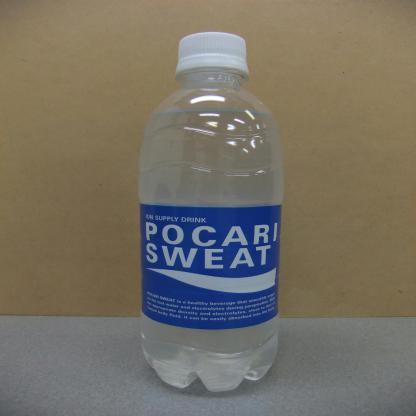bottle: (119, 20, 320, 414)
